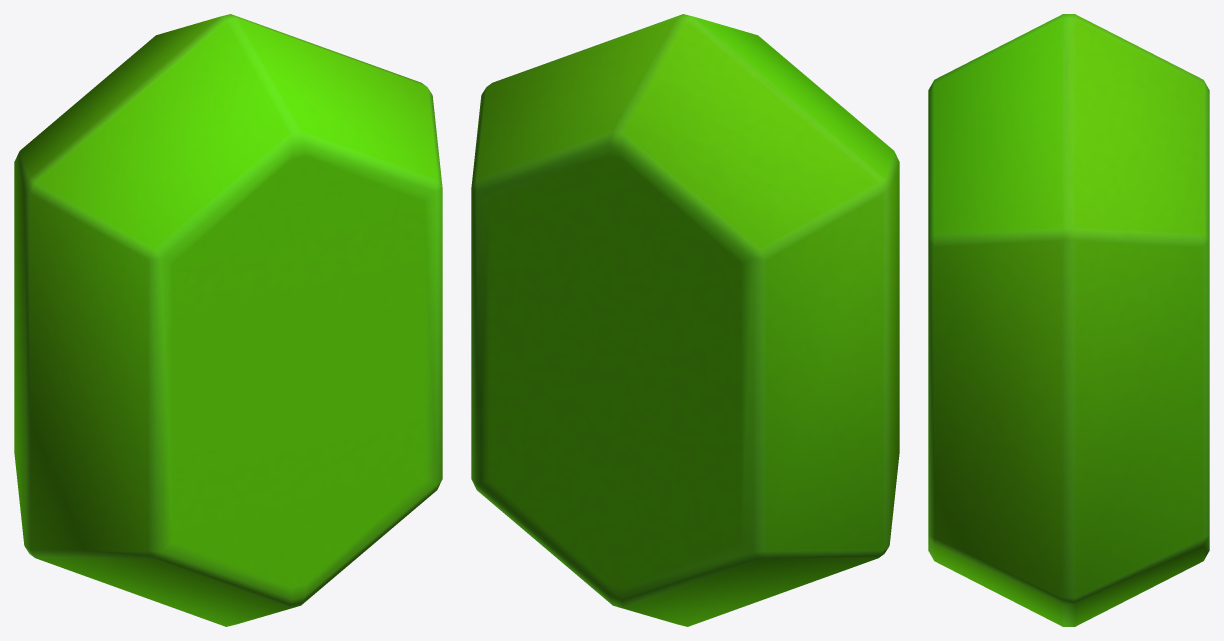
The model's file is Gem02_Green.FBX.
3 views of the same model, side by side, from view 1: azimuth 30°, elevation 25°; view 2: azimuth 150°, elevation 25°; view 3: azimuth 270°, elevation 25° (orthographic).
Visible parts, largest first — view 1: Gem02_Green; view 2: Gem02_Green; view 3: Gem02_Green.
Boxes of the visible parts, x1,y1,x2,y2 form: Gem02_Green: [14, 14, 442, 626]; Gem02_Green: [471, 14, 899, 626]; Gem02_Green: [928, 14, 1209, 626].
Size of the model in its own units: 46.56 by 67 by 28.13.
1 material, 1 textured.
